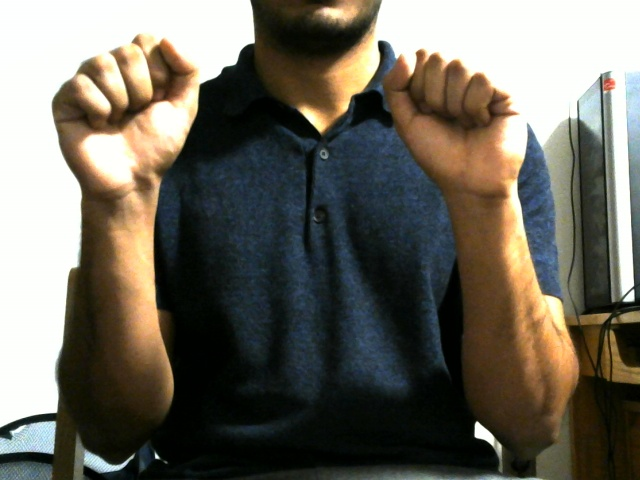can: (8, 24, 636, 446)
